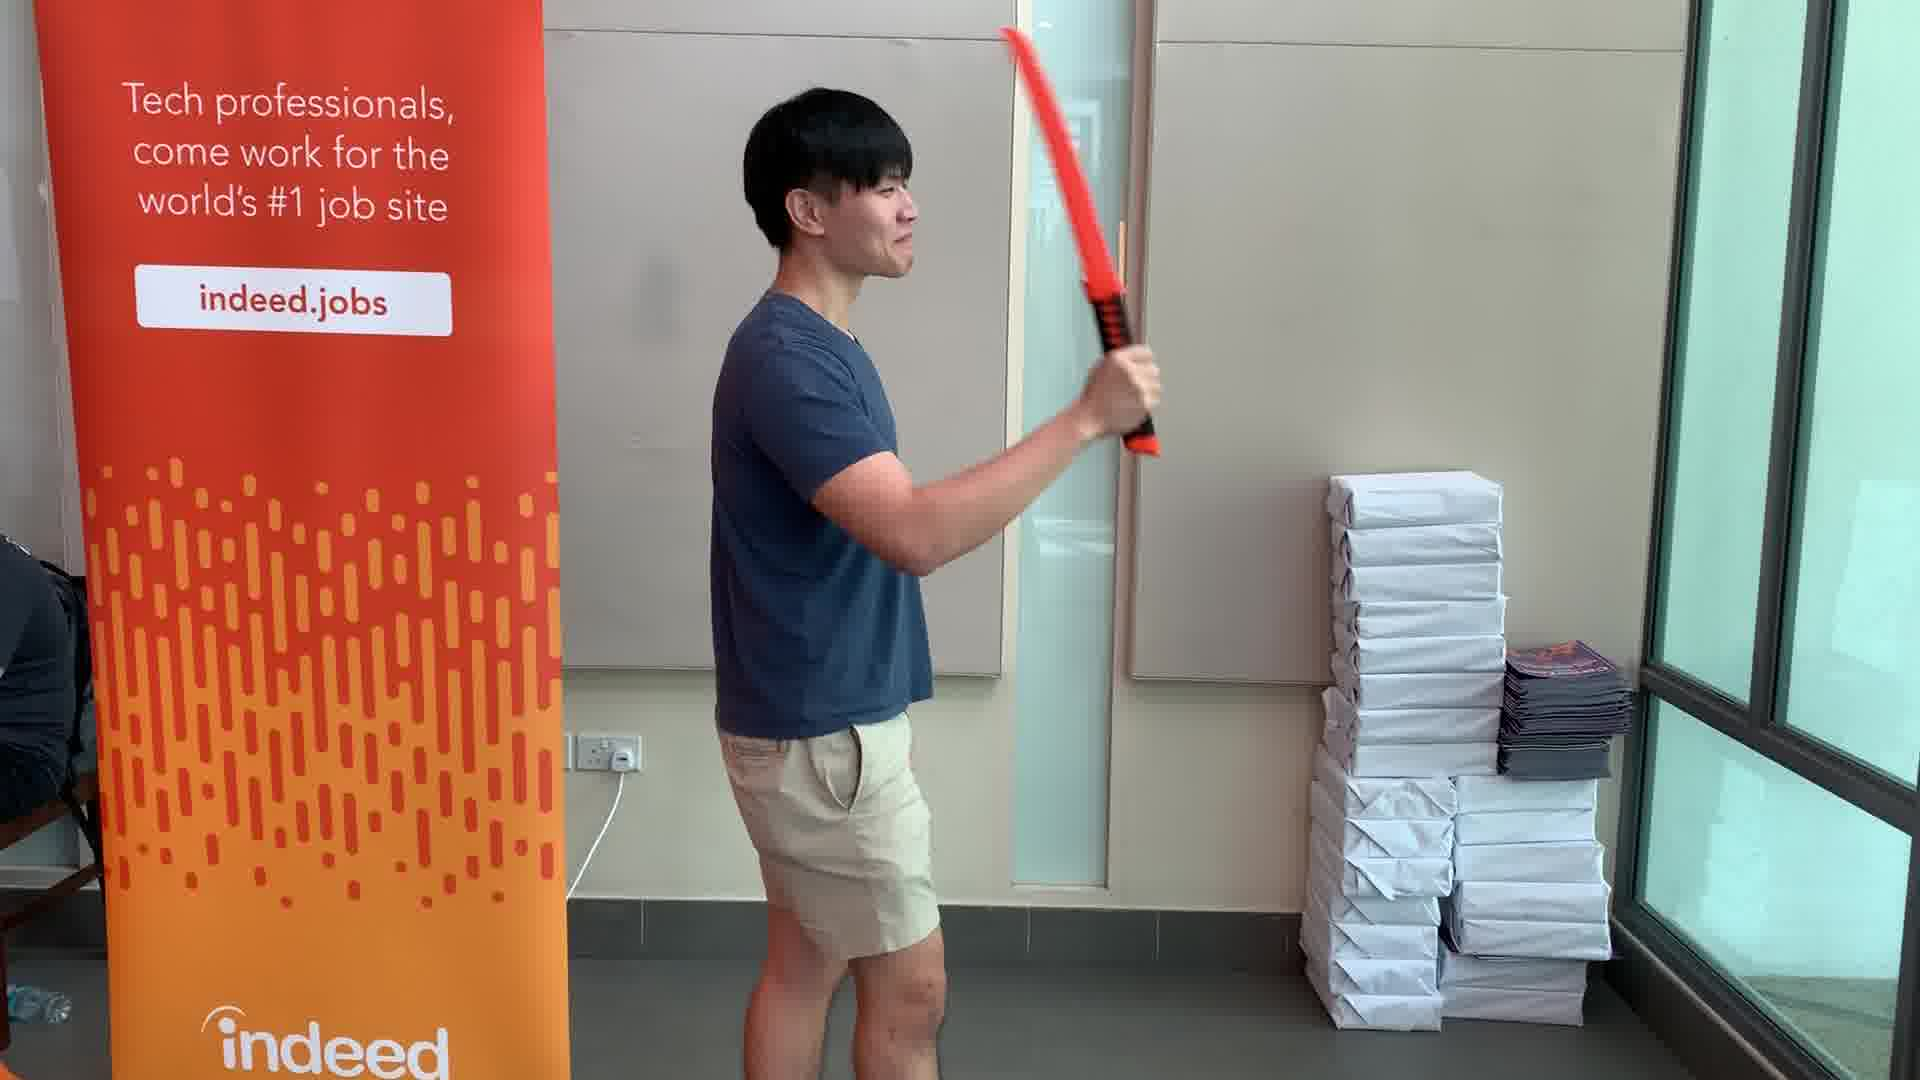knife: (994, 16, 1172, 464)
